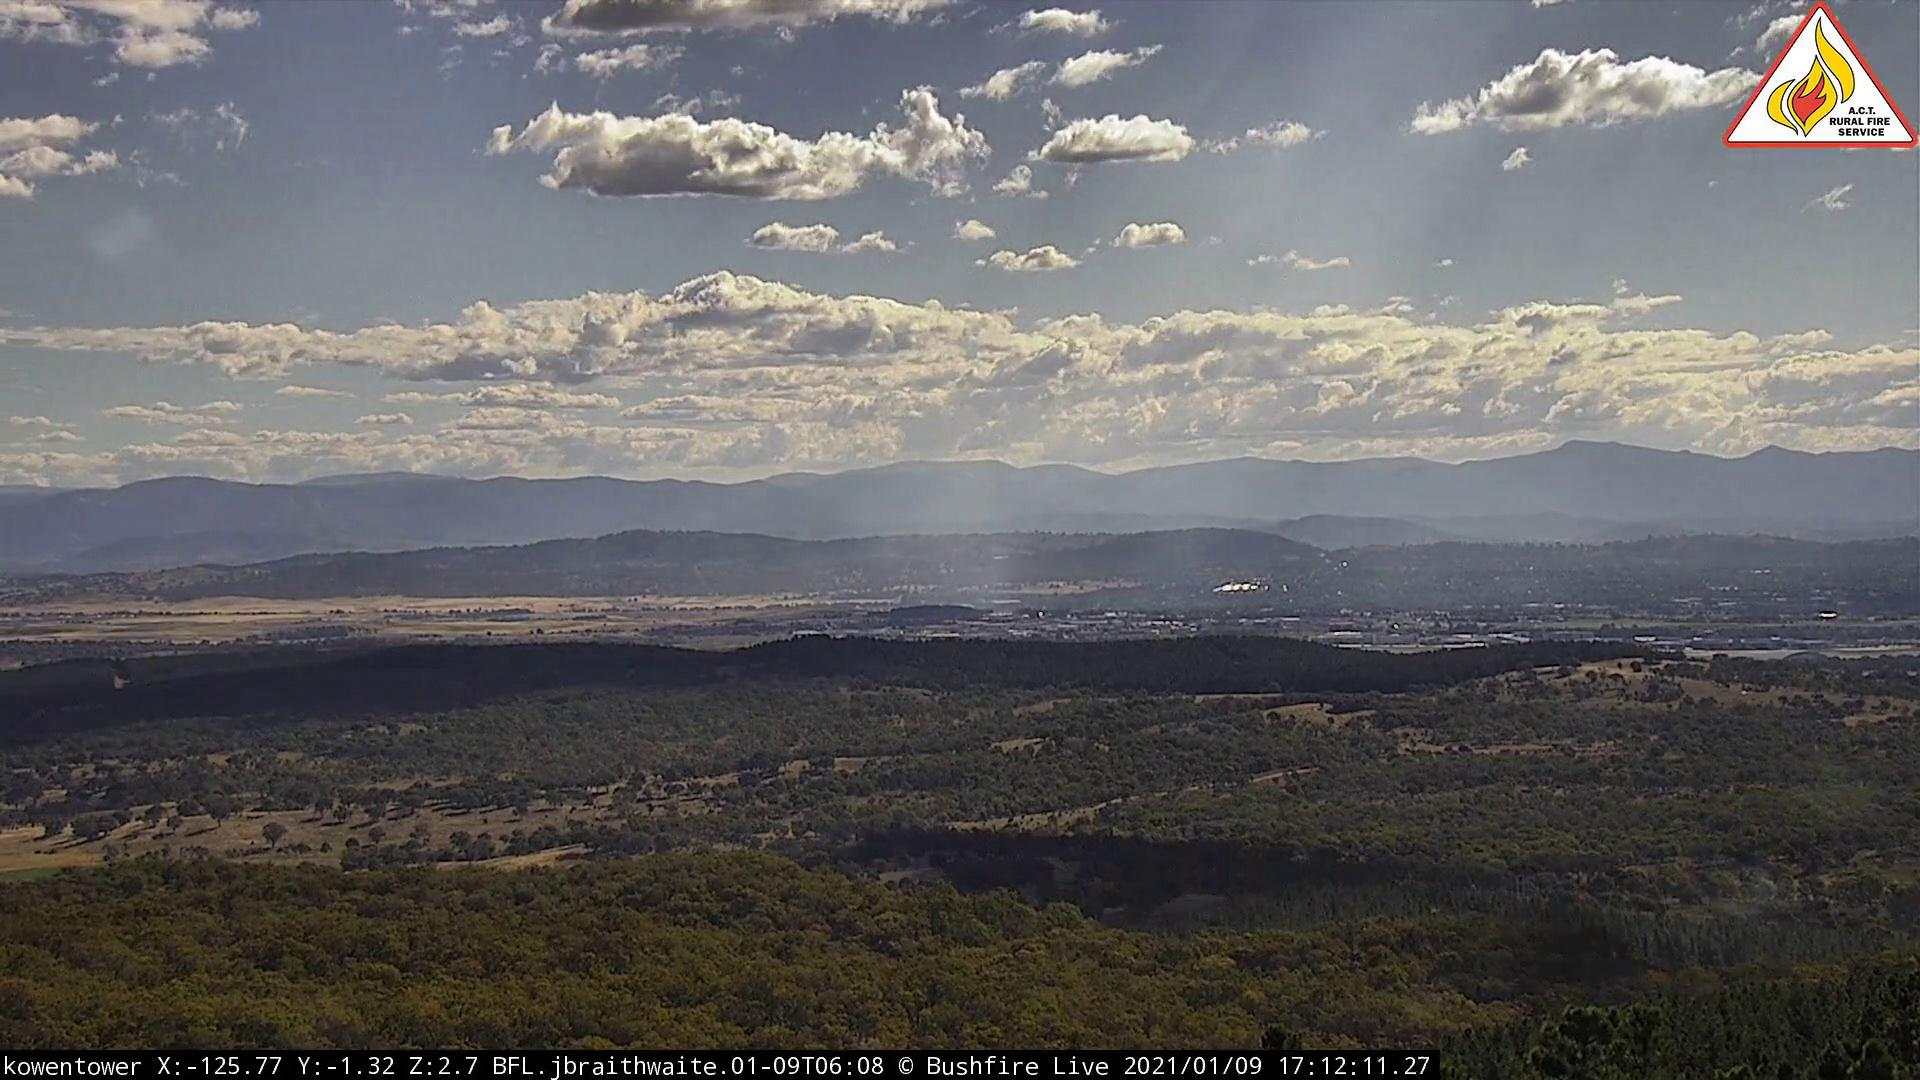instance_salient_object: (843, 522, 1019, 605)
